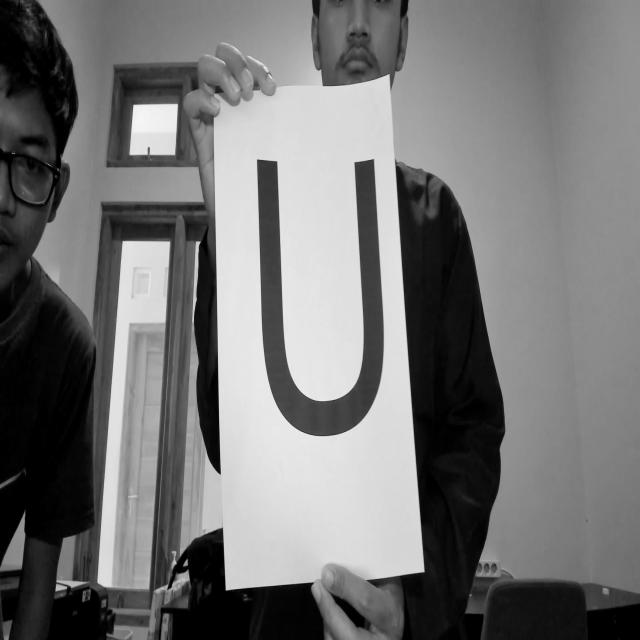u: (234, 116, 411, 478)
